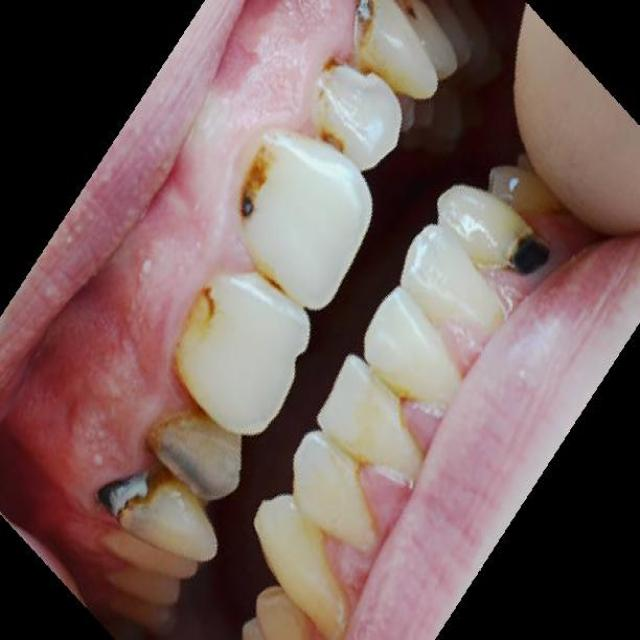caries: (496, 211, 563, 294), (96, 463, 163, 533), (229, 143, 277, 234), (184, 276, 232, 342), (349, 0, 392, 60), (314, 114, 356, 168), (396, 0, 436, 44)
